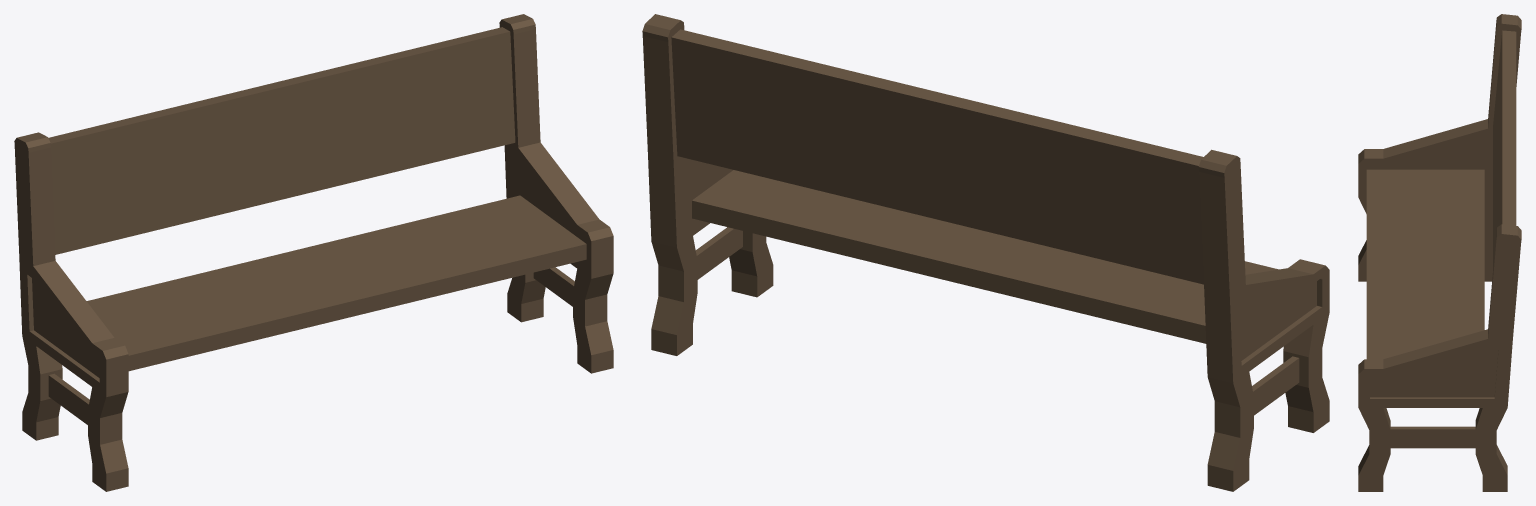
Rendered from Bench.glb.
The picture shows the model from 3 angles, left to right: view 1: azimuth 30°, elevation 25°; view 2: azimuth 150°, elevation 25°; view 3: azimuth 270°, elevation 25°; orthographic projection. The views are drawn at different scales.
Parts seen in each view (by area): view 1: Bench.001; view 2: Bench.001; view 3: Bench.001.
Part boxes in pixels (x1,y1,x2,y2): Bench.001: (14, 14, 613, 491); Bench.001: (642, 14, 1329, 491); Bench.001: (1358, 14, 1521, 491).
Size of the model in its own units: 2.09 by 1.14 by 0.6557.
Materials: 1 (1 with a texture image).
